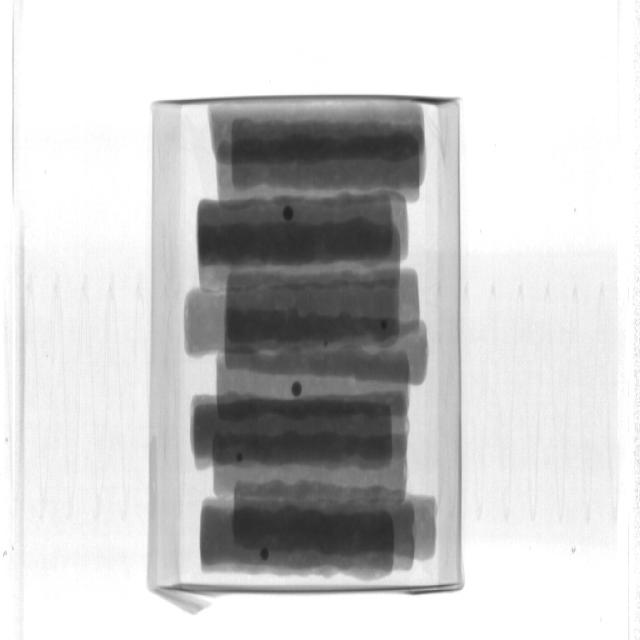ym: (284, 205, 295, 222), (292, 382, 302, 397), (236, 451, 245, 466), (263, 549, 272, 563), (382, 320, 390, 330), (324, 340, 329, 351)
